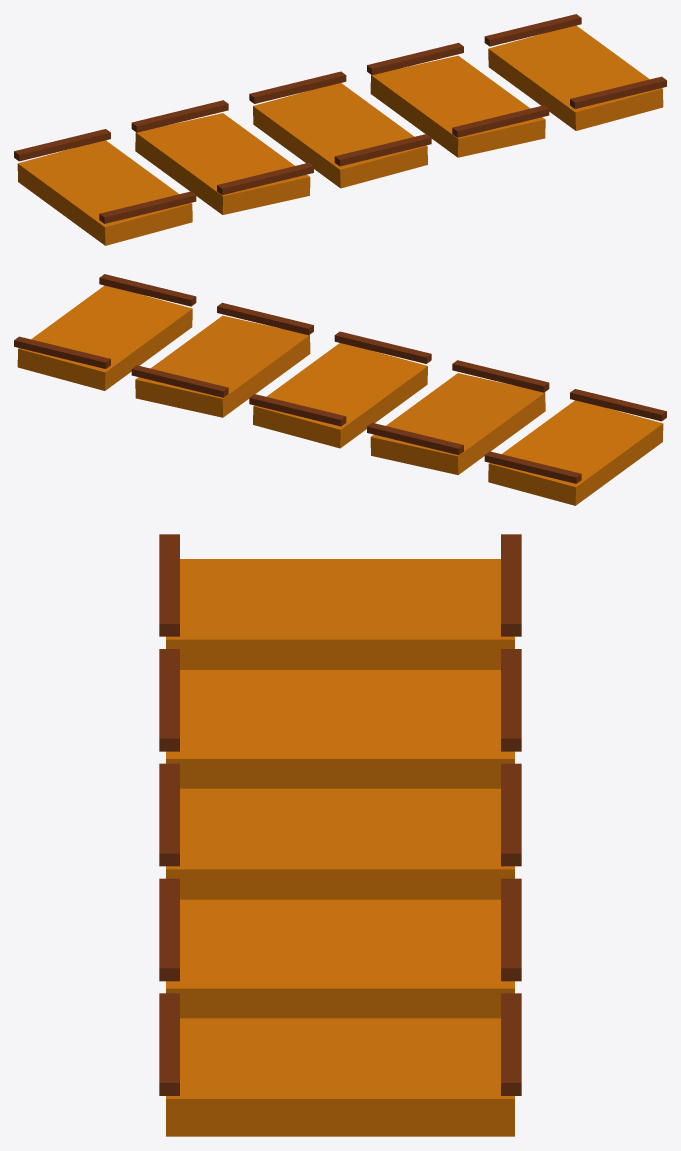
File: toy_rope_plank_bridge.glb
The picture shows the model from 3 angles, top to bottom: view 1: azimuth 30°, elevation 25°; view 2: azimuth 150°, elevation 25°; view 3: azimuth 270°, elevation 25°; orthographic projection. The views are drawn at different scales.
Parts seen in each view (by area): view 1: solid_1, solid_13, solid_7, solid_10, solid_4, solid_3, solid_14, solid_8, solid_9, solid_12, solid_5, solid_2 (+3 smaller); view 2: solid_1, solid_13, solid_7, solid_10, solid_4, solid_2, solid_15, solid_8, solid_9, solid_11, solid_6, solid_3 (+3 smaller); view 3: solid_13, solid_10, solid_4, solid_7, solid_1, solid_8, solid_9, solid_11, solid_12, solid_2, solid_3, solid_5 (+3 smaller).
Part boxes in pixels (bbox=[...]): solid_1: bbox=[17, 140, 192, 245]; solid_13: bbox=[488, 25, 663, 130]; solid_7: bbox=[253, 83, 427, 188]; solid_10: bbox=[370, 55, 545, 157]; solid_4: bbox=[135, 113, 310, 214]; solid_3: bbox=[99, 191, 196, 223]; solid_14: bbox=[484, 14, 581, 46]; solid_8: bbox=[249, 71, 346, 103]; solid_9: bbox=[334, 134, 431, 166]; solid_12: bbox=[452, 105, 549, 137]; solid_5: bbox=[131, 100, 228, 132]; solid_2: bbox=[14, 129, 110, 161]; solid_1: bbox=[488, 400, 663, 505]; solid_13: bbox=[17, 285, 192, 390]; solid_7: bbox=[253, 343, 427, 448]; solid_10: bbox=[135, 315, 310, 417]; solid_4: bbox=[370, 373, 545, 474]; solid_2: bbox=[484, 451, 581, 483]; solid_15: bbox=[99, 274, 196, 306]; solid_8: bbox=[249, 394, 346, 426]; solid_9: bbox=[334, 331, 431, 363]; solid_11: bbox=[131, 365, 228, 397]; solid_6: bbox=[452, 360, 549, 392]; solid_3: bbox=[570, 389, 666, 421]; solid_13: bbox=[166, 1018, 514, 1136]; solid_10: bbox=[166, 899, 514, 1018]; solid_4: bbox=[166, 670, 514, 788]; solid_7: bbox=[166, 788, 514, 899]; solid_1: bbox=[166, 559, 514, 669]; solid_8: bbox=[501, 763, 521, 866]; solid_9: bbox=[159, 763, 179, 866]; solid_11: bbox=[501, 878, 521, 981]; solid_12: bbox=[159, 878, 179, 981]; solid_2: bbox=[501, 534, 521, 636]; solid_3: bbox=[159, 534, 179, 636]; solid_5: bbox=[501, 649, 521, 751].
Bounding box in the file's own units: 5.02 × 0.2577 × 1.4.
